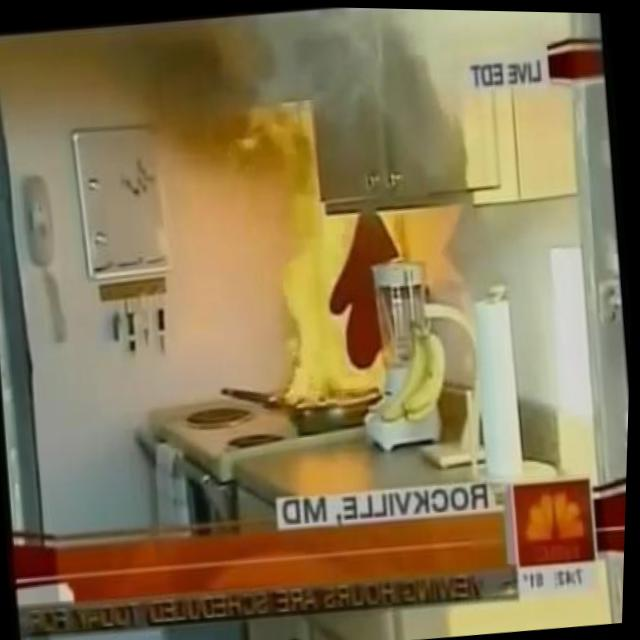fire: (222, 85, 424, 407)
